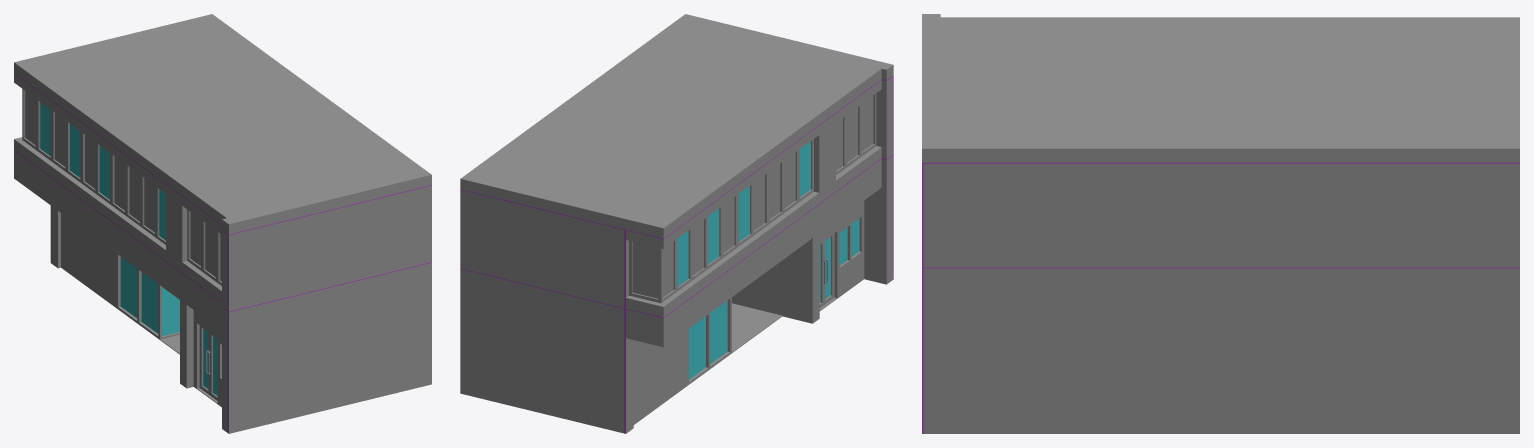
The model's file is BuildingS_08_var3.fbx.
3 views of the same model, side by side, from view 1: azimuth 30°, elevation 25°; view 2: azimuth 150°, elevation 25°; view 3: azimuth 270°, elevation 25° (orthographic). The views are drawn at different scales.
Visible parts, largest first — view 1: BuildingS_08_var3; view 2: BuildingS_08_var3; view 3: BuildingS_08_var3.
Boxes of the visible parts, <box> form: BuildingS_08_var3: <box>14,14,431,433</box>; BuildingS_08_var3: <box>460,14,893,433</box>; BuildingS_08_var3: <box>922,14,1519,433</box>.
Size of the model in its own units: 0.2005 by 0.1978 by 0.3757.
